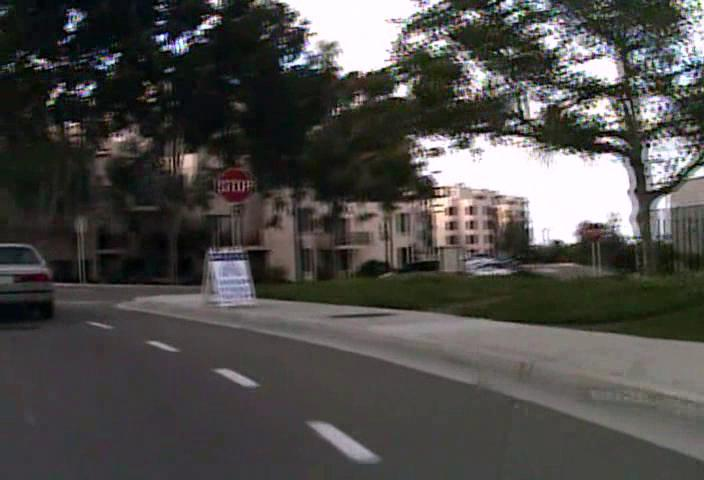stop: (216, 166, 254, 204)
